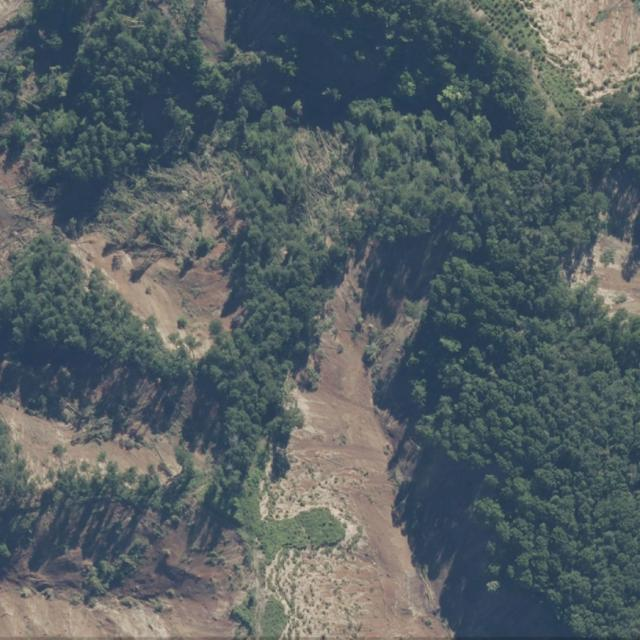landslide: (260, 235, 454, 639), (69, 162, 241, 359), (0, 400, 181, 490), (525, 0, 640, 101), (0, 589, 230, 639), (592, 234, 640, 315)
